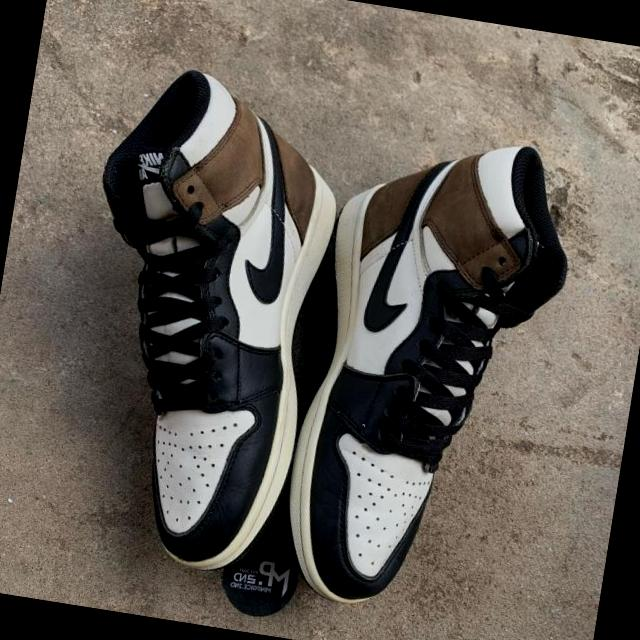nike_original_jordan: (34, 56, 356, 593), (279, 118, 593, 634)
